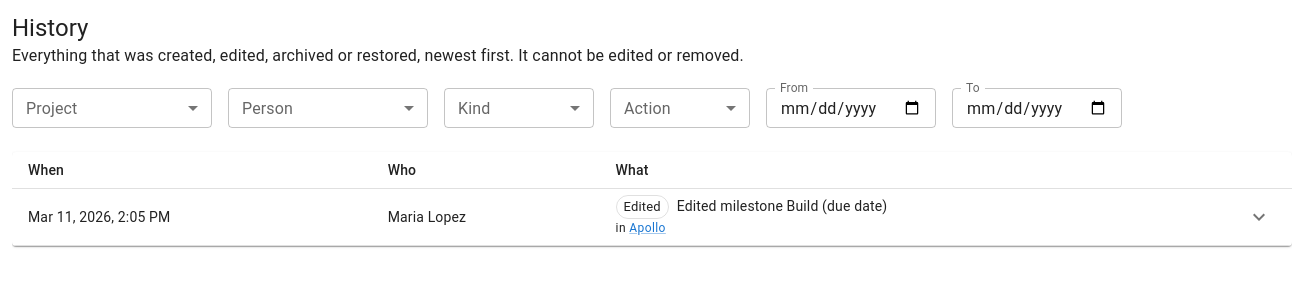
HistoryPage › shows exactly what changed when a row is opened, and hides it again
The width and height of the screenshot is (1292, 298).
Click the button named "Show details: Edited milestone Build": (1259, 217) left=1242, top=200, right=1276, bottom=234
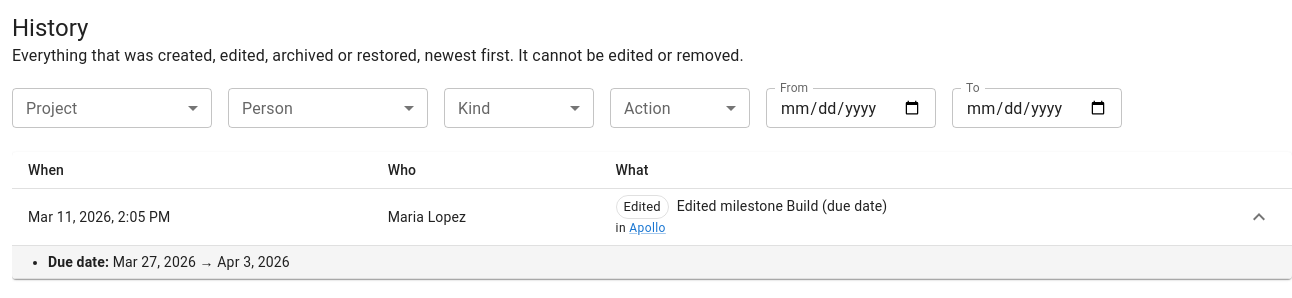
Expected: the text "Due date:" is shown, left=48, top=254, right=113, bottom=270
Expected: the text "Mar 27, 2026 → Apr 3, 2026" is shown, left=113, top=254, right=290, bottom=270
Click the button named "Hide details": (1259, 217) left=1242, top=200, right=1276, bottom=234
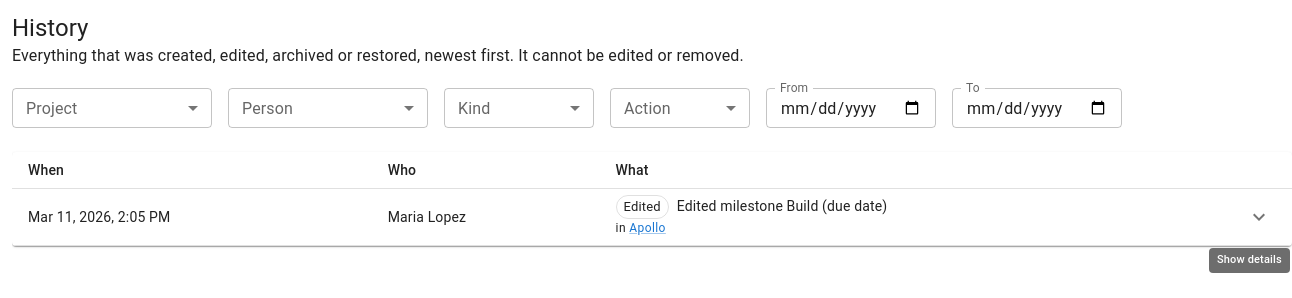
Expected: the text "Due date:" is gone
